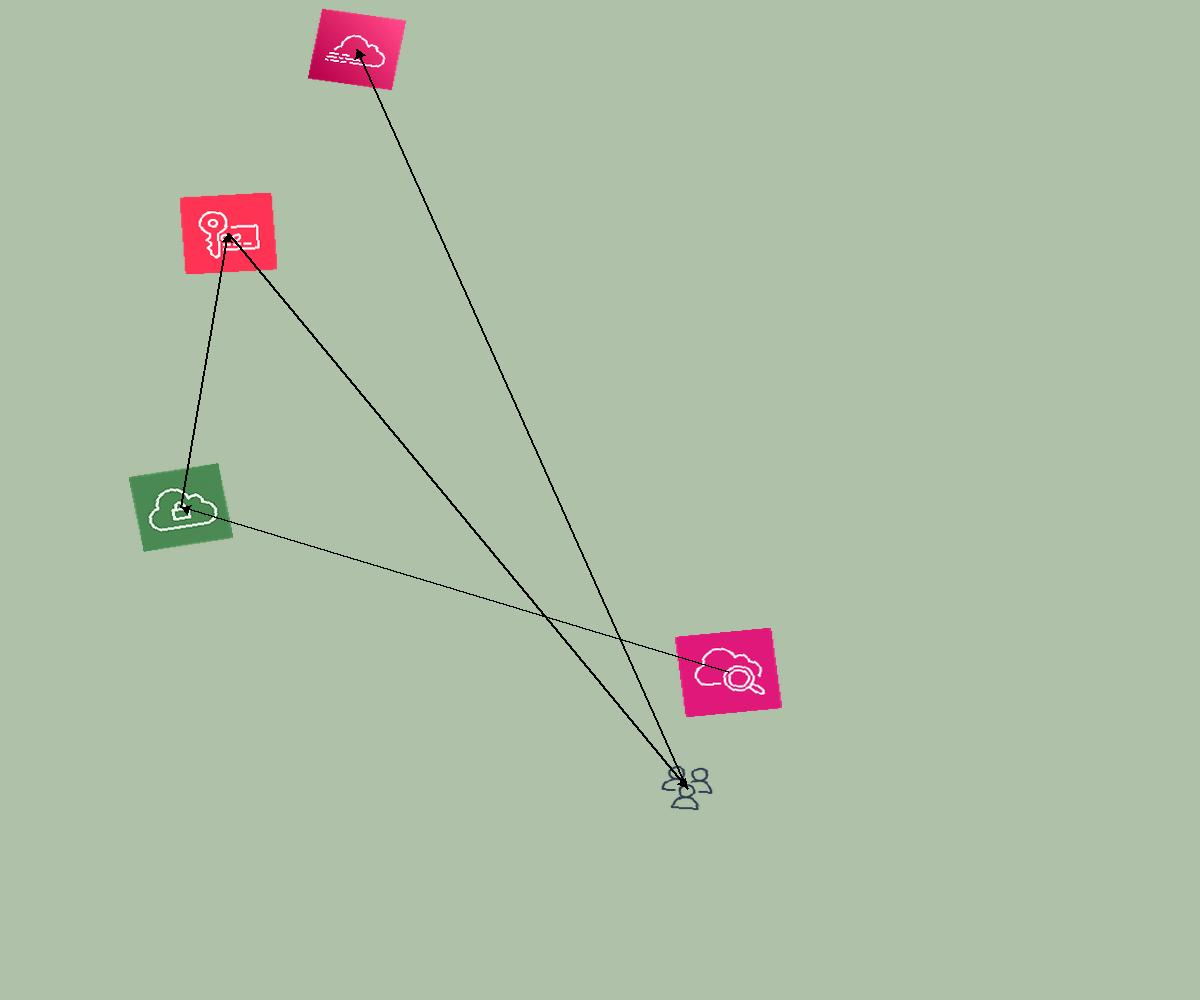AWS-CloudTrail: (307, 8, 407, 91)
AWS-CloudWatch: (674, 627, 783, 718)
AWS-Key-Management-Service: (179, 192, 278, 275)
AWS-Private_vpc: (128, 463, 234, 552)
AWS-Res_Users: (657, 763, 717, 813)
